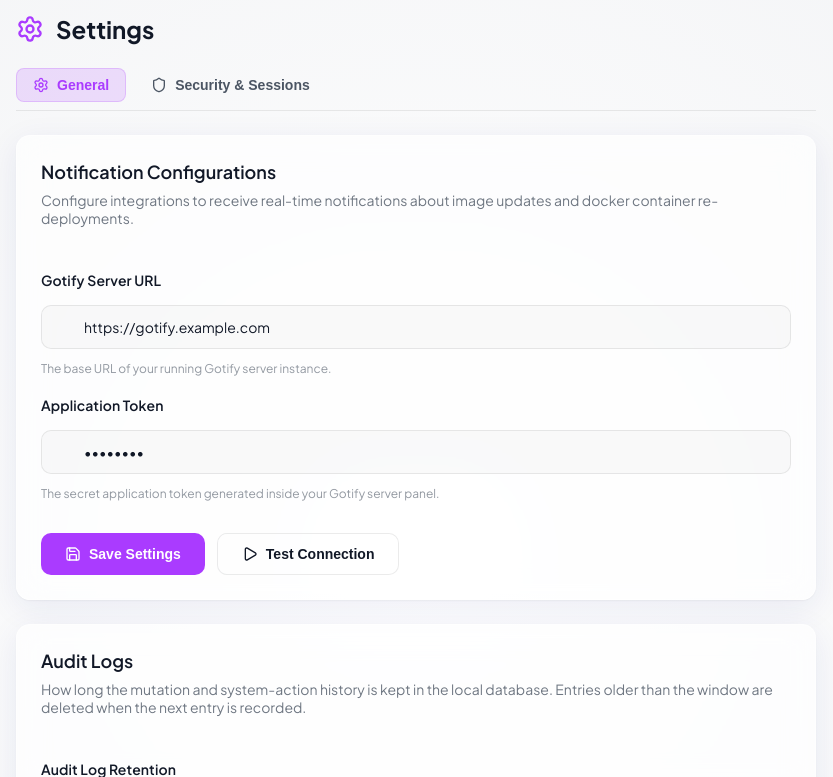
Test: Settings Component › renders passkeys list with friendly name and synced badge
Click the button "Security & Sessions" at point(230, 85), box [134,68,327,102]
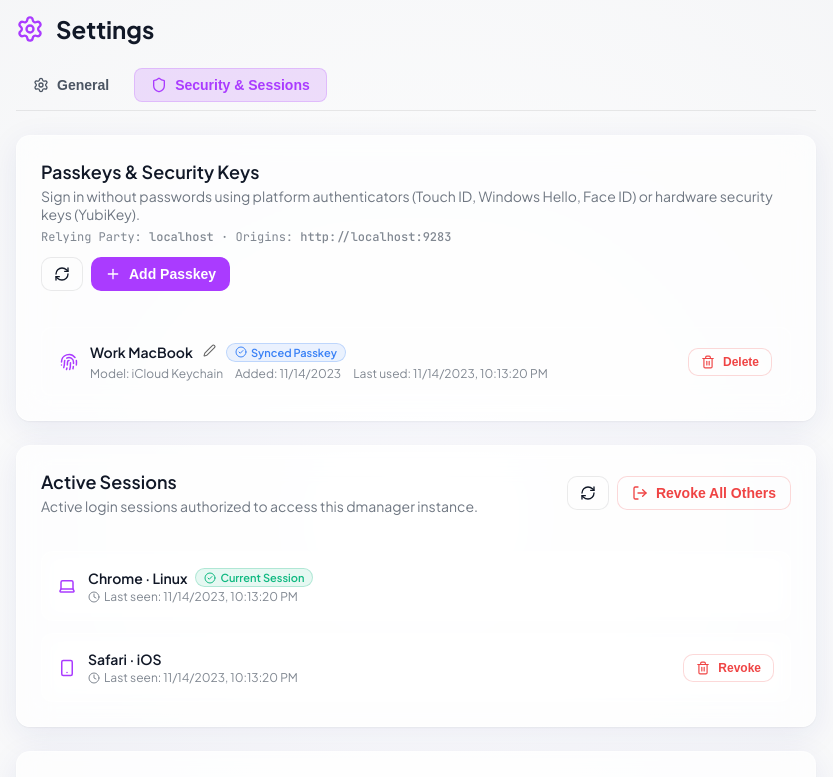
expect the text "Work MacBook" is shown: met, box [90,343,193,361]
expect the text "Model: iCloud Keychain" is shown: met, box [90,366,223,381]
expect the text "Synced Passkey" is shown: met, box [251,346,337,358]
